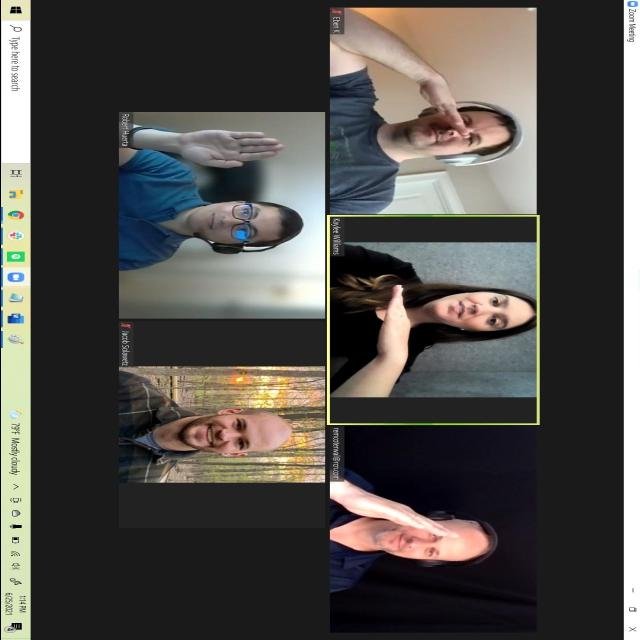Paper: (333, 488, 462, 540), (412, 74, 476, 144), (180, 128, 286, 170), (369, 279, 416, 372)
